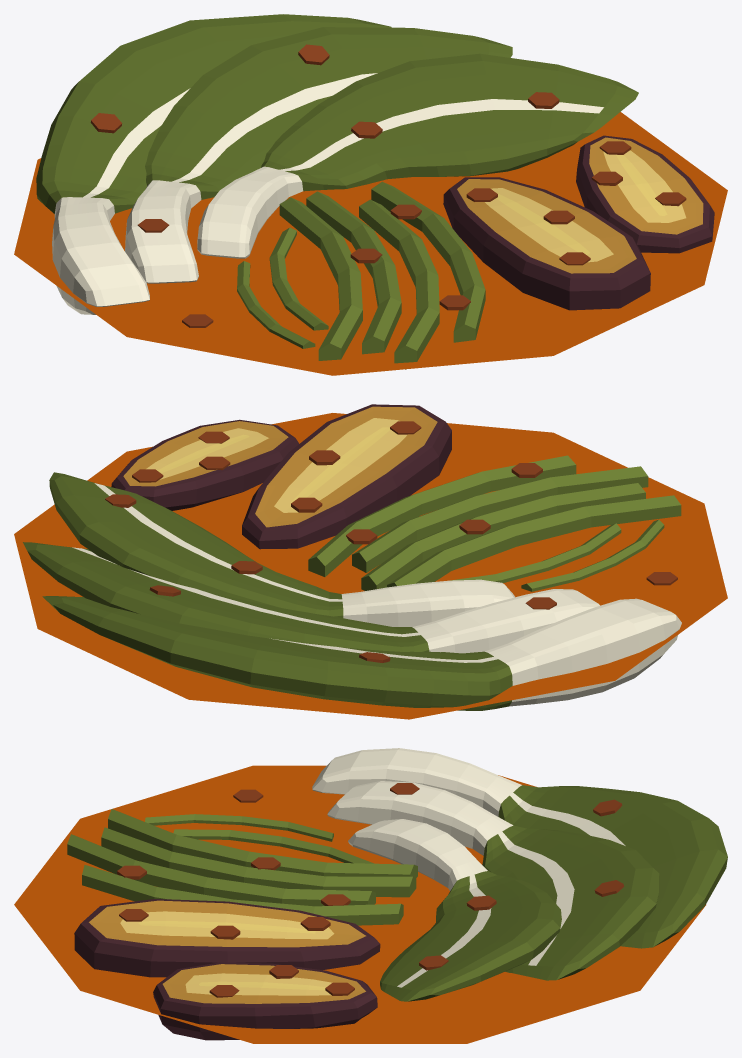
File: Vegetable karekare.fbx
The picture shows the model from 3 angles, top to bottom: view 1: azimuth 30°, elevation 25°; view 2: azimuth 150°, elevation 25°; view 3: azimuth 270°, elevation 25°; orthographic projection. The views are drawn at different scales.
Parts seen in each view (by area): view 1: Vegetable Kare-Kare; view 2: Vegetable Kare-Kare; view 3: Vegetable Kare-Kare.
Part boxes in pixels (x1,y1,x2,y2): Vegetable Kare-Kare: (14, 14, 727, 375); Vegetable Kare-Kare: (14, 404, 727, 719); Vegetable Kare-Kare: (14, 748, 727, 1043).
Size of the model in its own units: 83.33 by 12.92 by 90.33.
